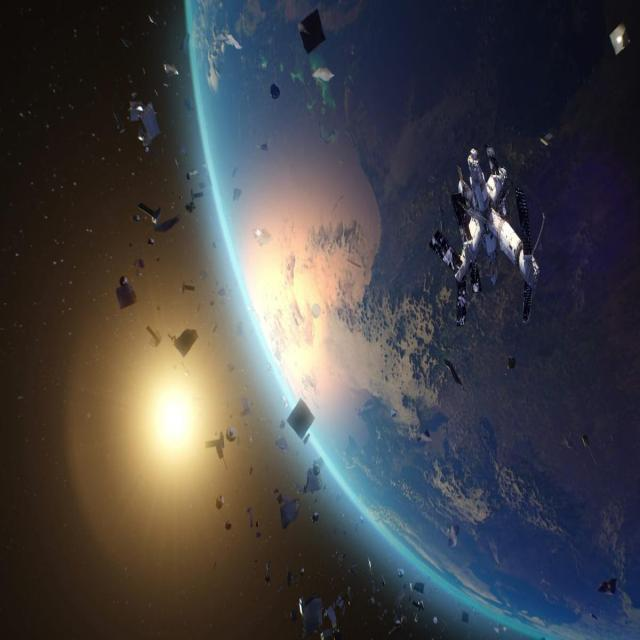large_debris: (283, 588, 354, 640), (129, 100, 159, 146), (298, 8, 325, 53), (286, 399, 314, 440), (303, 458, 324, 495), (366, 578, 386, 616), (208, 280, 236, 307), (173, 329, 197, 358), (115, 276, 135, 310), (611, 21, 631, 55), (444, 360, 465, 392), (279, 500, 300, 531), (204, 433, 225, 464), (137, 202, 161, 224), (153, 214, 180, 232), (582, 435, 597, 467), (252, 230, 273, 247), (145, 326, 161, 348), (111, 108, 124, 133), (598, 579, 617, 596), (243, 421, 253, 453), (388, 616, 403, 637), (312, 67, 334, 81), (395, 585, 407, 610), (173, 361, 190, 378), (490, 620, 508, 636), (240, 397, 253, 417), (448, 526, 459, 549), (163, 61, 178, 76), (540, 131, 554, 146), (132, 259, 144, 276), (347, 559, 358, 577), (417, 429, 431, 443), (275, 438, 288, 452), (225, 428, 236, 443), (234, 318, 243, 336), (181, 282, 195, 293), (246, 507, 253, 529), (269, 83, 279, 98), (184, 200, 195, 213), (190, 189, 203, 200), (412, 584, 425, 595), (412, 602, 425, 613), (334, 548, 344, 562), (119, 36, 131, 47), (215, 497, 224, 511), (227, 361, 236, 375), (186, 169, 197, 180), (147, 13, 157, 25), (232, 188, 241, 201), (589, 611, 599, 622), (302, 433, 310, 446), (508, 357, 516, 370), (293, 482, 301, 495), (199, 270, 208, 281), (173, 157, 180, 171), (286, 572, 292, 588), (179, 143, 187, 155), (195, 302, 202, 315), (257, 143, 268, 151), (462, 613, 469, 625), (311, 513, 318, 524), (248, 466, 254, 478), (334, 494, 342, 503), (162, 82, 170, 91), (368, 557, 372, 574), (354, 520, 360, 531), (132, 214, 140, 222), (147, 238, 154, 247), (211, 240, 218, 249), (225, 522, 231, 532), (413, 612, 418, 624), (341, 526, 346, 538), (212, 324, 218, 334), (212, 562, 218, 572), (283, 396, 288, 407), (277, 495, 282, 505), (390, 410, 397, 417), (228, 414, 235, 421), (266, 561, 270, 573), (279, 421, 285, 429), (265, 577, 270, 586), (255, 532, 261, 539), (313, 497, 319, 504), (433, 616, 438, 624), (128, 240, 133, 248), (153, 88, 158, 96), (132, 90, 137, 98), (141, 66, 145, 76), (300, 568, 304, 577), (334, 526, 338, 535), (266, 463, 270, 472), (295, 450, 300, 457), (237, 435, 240, 446), (156, 256, 160, 264), (156, 303, 160, 311), (244, 385, 248, 392), (273, 490, 278, 495), (178, 194, 182, 200), (171, 189, 175, 195), (410, 584, 412, 593), (323, 486, 326, 492), (254, 560, 257, 566), (256, 521, 258, 528), (398, 571, 402, 574)
medium_debris: (429, 145, 540, 327)
